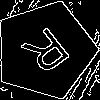R: (20, 25, 79, 84)
